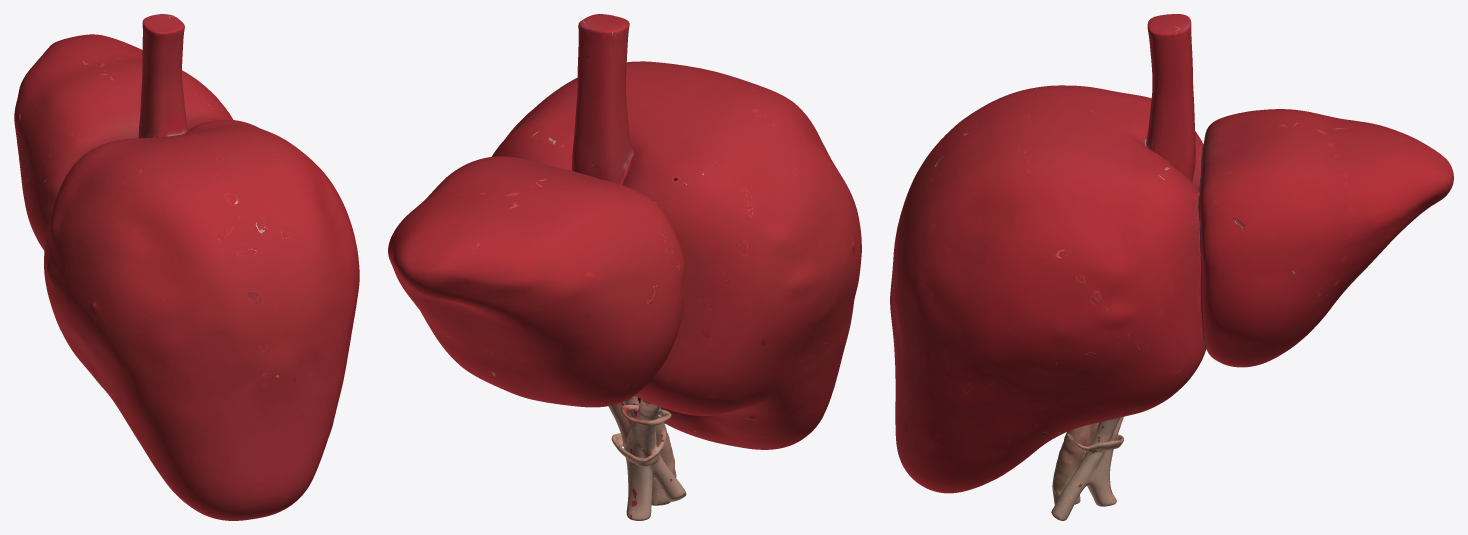
Rendered from liver-transplant-treatment.glb.
3 renders of one model, left to right at view 1: azimuth 30°, elevation 25°; view 2: azimuth 150°, elevation 25°; view 3: azimuth 270°, elevation 25°, orthographic. The views are drawn at different scales.
Visible parts, largest first — view 1: LiverTransplantTreatment; view 2: LiverTransplantTreatment; view 3: LiverTransplantTreatment.
Part boxes in pixels (left/top/right/bottom): LiverTransplantTreatment: left=14, top=14, right=359, bottom=520; LiverTransplantTreatment: left=388, top=14, right=861, bottom=520; LiverTransplantTreatment: left=890, top=14, right=1453, bottom=520.
Size of the model in its own units: 0.6165 by 0.9562 by 1.
1 material, 1 textured.
